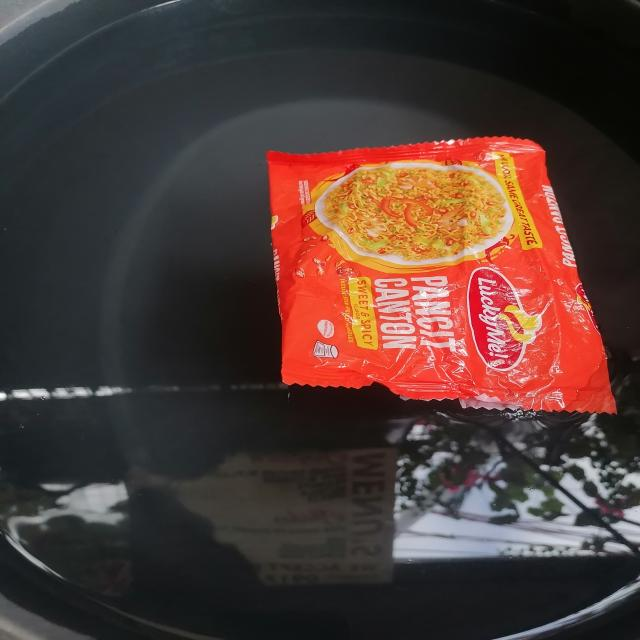Plastic Wrapper: (239, 117, 640, 430)
